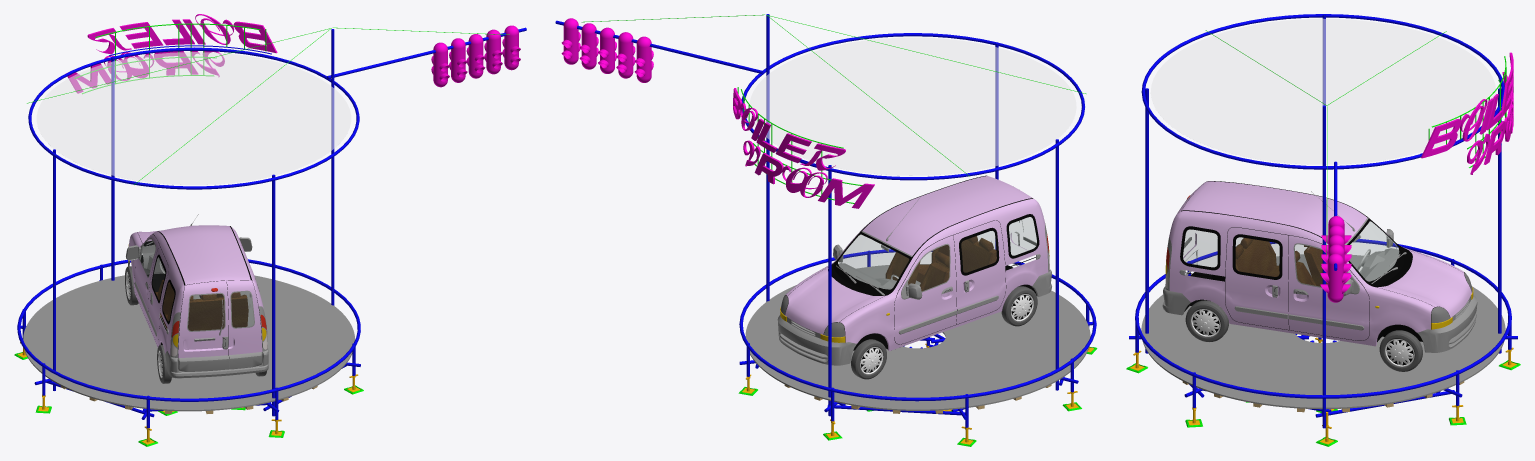
File: 3D_projet.glb
3 views of the same model, side by side, from view 1: azimuth 30°, elevation 25°; view 2: azimuth 150°, elevation 25°; view 3: azimuth 270°, elevation 25° (orthographic). The views are drawn at different scales.
Visible parts, largest first — view 1: Calque 01, #BOIS, SPEEDMOBILE, Layer0, #ACIER; view 2: Calque 01, SPEEDMOBILE, #BOIS, Layer0, #ACIER; view 3: Calque 01, SPEEDMOBILE, #BOIS, Layer0, #ACIER, #acier, #plastique.
Part boxes in pixels (box(x1,y1,x2,y2)): Calque 01: box(27, 14, 526, 416); #BOIS: box(23, 275, 354, 413); SPEEDMOBILE: box(126, 214, 268, 378); Layer0: box(125, 244, 267, 383); #ACIER: box(17, 259, 360, 428); Calque 01: box(555, 14, 1086, 416); SPEEDMOBILE: box(777, 175, 1051, 365); #BOIS: box(745, 264, 1090, 413); Layer0: box(780, 214, 1049, 379); #ACIER: box(739, 249, 1096, 427); Calque 01: box(1141, 14, 1513, 428); SPEEDMOBILE: box(1162, 181, 1477, 352); #BOIS: box(1141, 254, 1505, 412); Layer0: box(1165, 219, 1473, 371); #ACIER: box(1129, 239, 1517, 417); #acier: box(1130, 337, 1517, 444); #plastique: box(1126, 360, 1520, 446).
Size of the model in its own units: 0.0887 by 0.0525 by 0.0555.
Materials: 25 (1 with a texture image).
